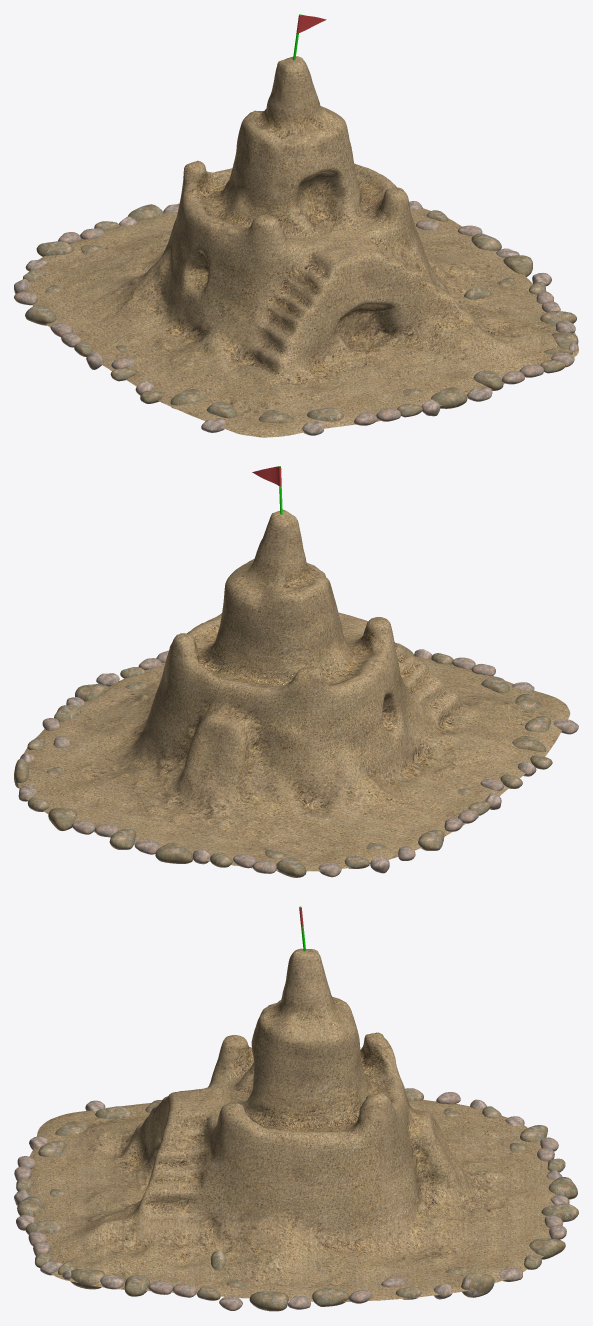
Rendered from uploads_files_6342160_Sand+Castle.glb.
3 renders of one model, top to bottom at view 1: azimuth 30°, elevation 25°; view 2: azimuth 150°, elevation 25°; view 3: azimuth 270°, elevation 25°, orthographic.
Visible parts, largest first — view 1: SandCastle; view 2: SandCastle; view 3: SandCastle.
Boxes of the visible parts, box(x1,y1,x2,y2) form: SandCastle: box(14, 14, 578, 437); SandCastle: box(14, 466, 578, 877); SandCastle: box(14, 906, 578, 1311).
Size of the model in its own units: 1.59 by 1.04 by 1.76.
4 materials, 2 textured.
